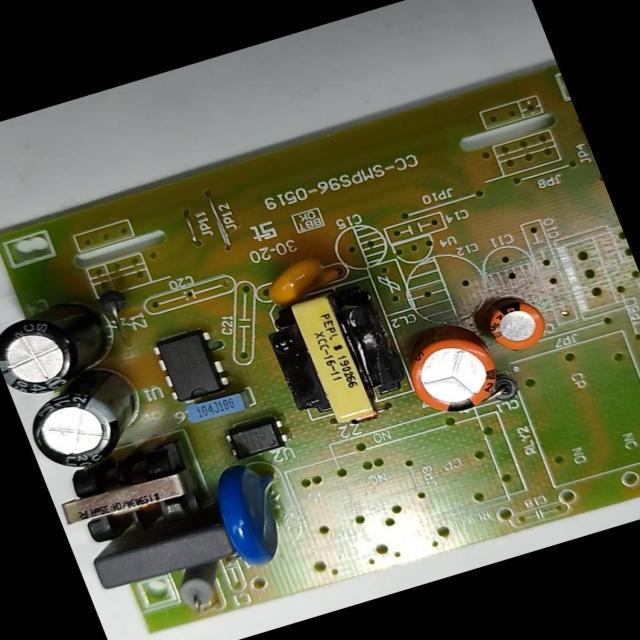Cap1: (397, 324, 511, 422)
Cap2: (482, 296, 552, 356)
Cap3: (22, 361, 164, 479)
Cap4: (0, 288, 131, 405)
MOSFET: (148, 325, 234, 405)
Mov: (203, 450, 312, 572)
Resistor: (165, 560, 234, 616)
Transformer: (255, 277, 420, 436), (48, 436, 213, 552)
